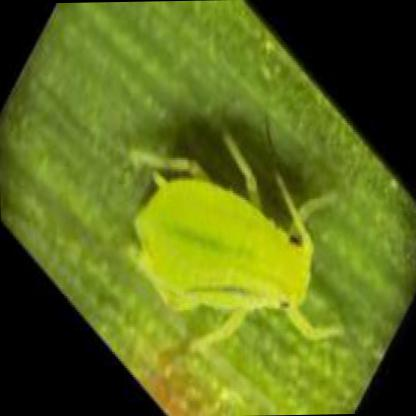schizaphis graminum: (128, 132, 311, 314)
